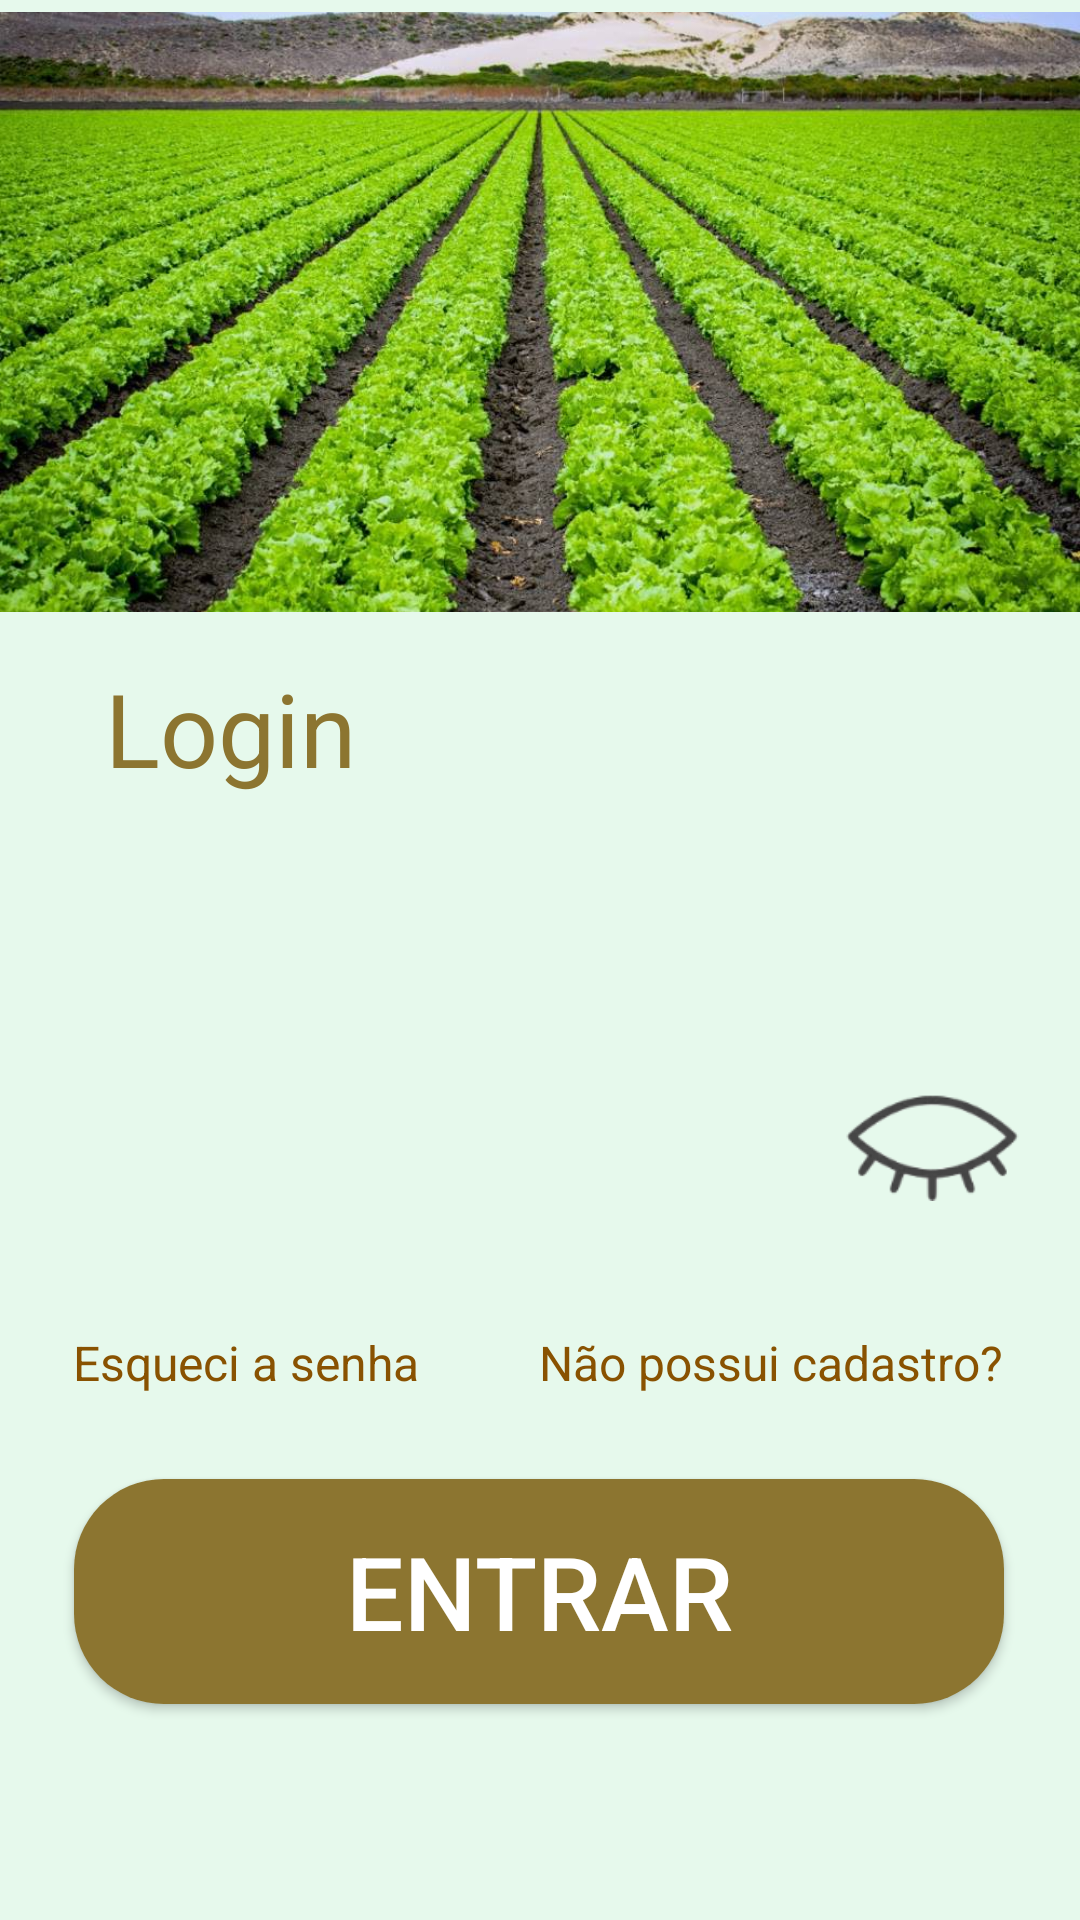

Screen size 1080w x 1920h. Icon name, then its center in pixels as (x=x, y=y):
visibility off: (x=932, y=1148)
